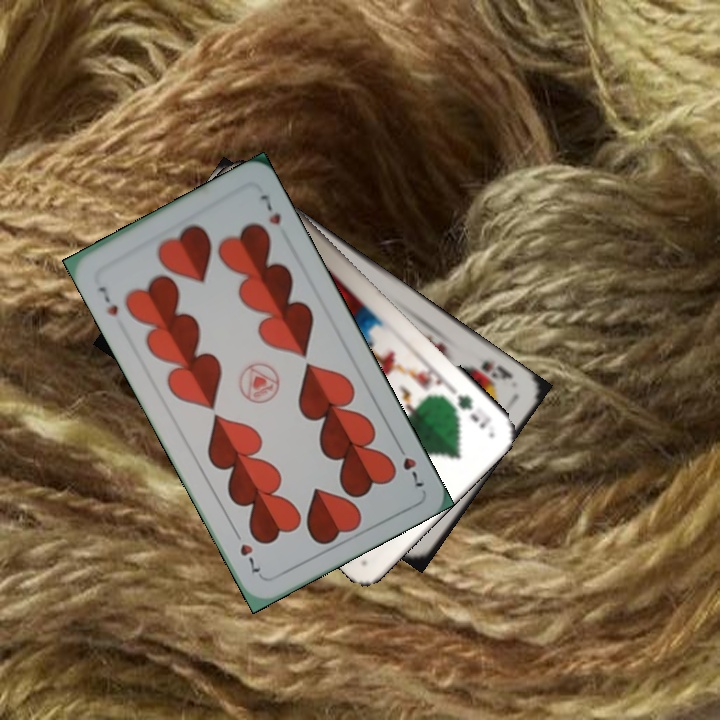GK: (453, 390, 494, 432)
H7: (391, 438, 427, 490), (94, 281, 121, 319)
SK: (477, 356, 515, 383)
